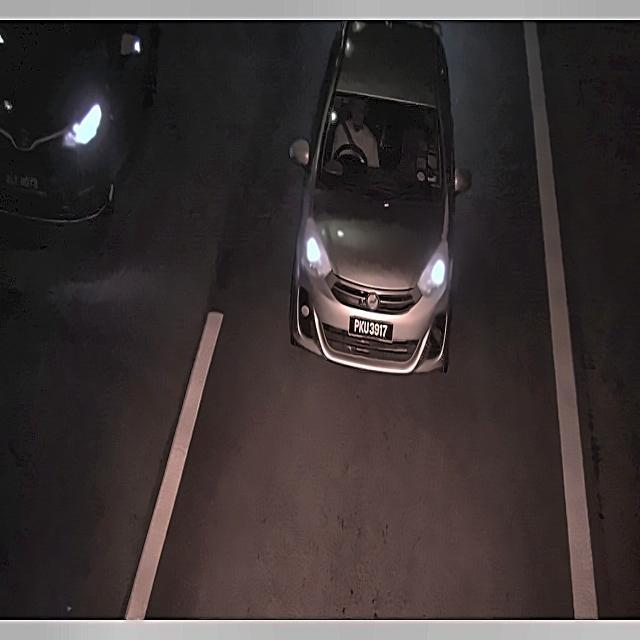car: (346, 306, 402, 350), (2, 162, 46, 202)
